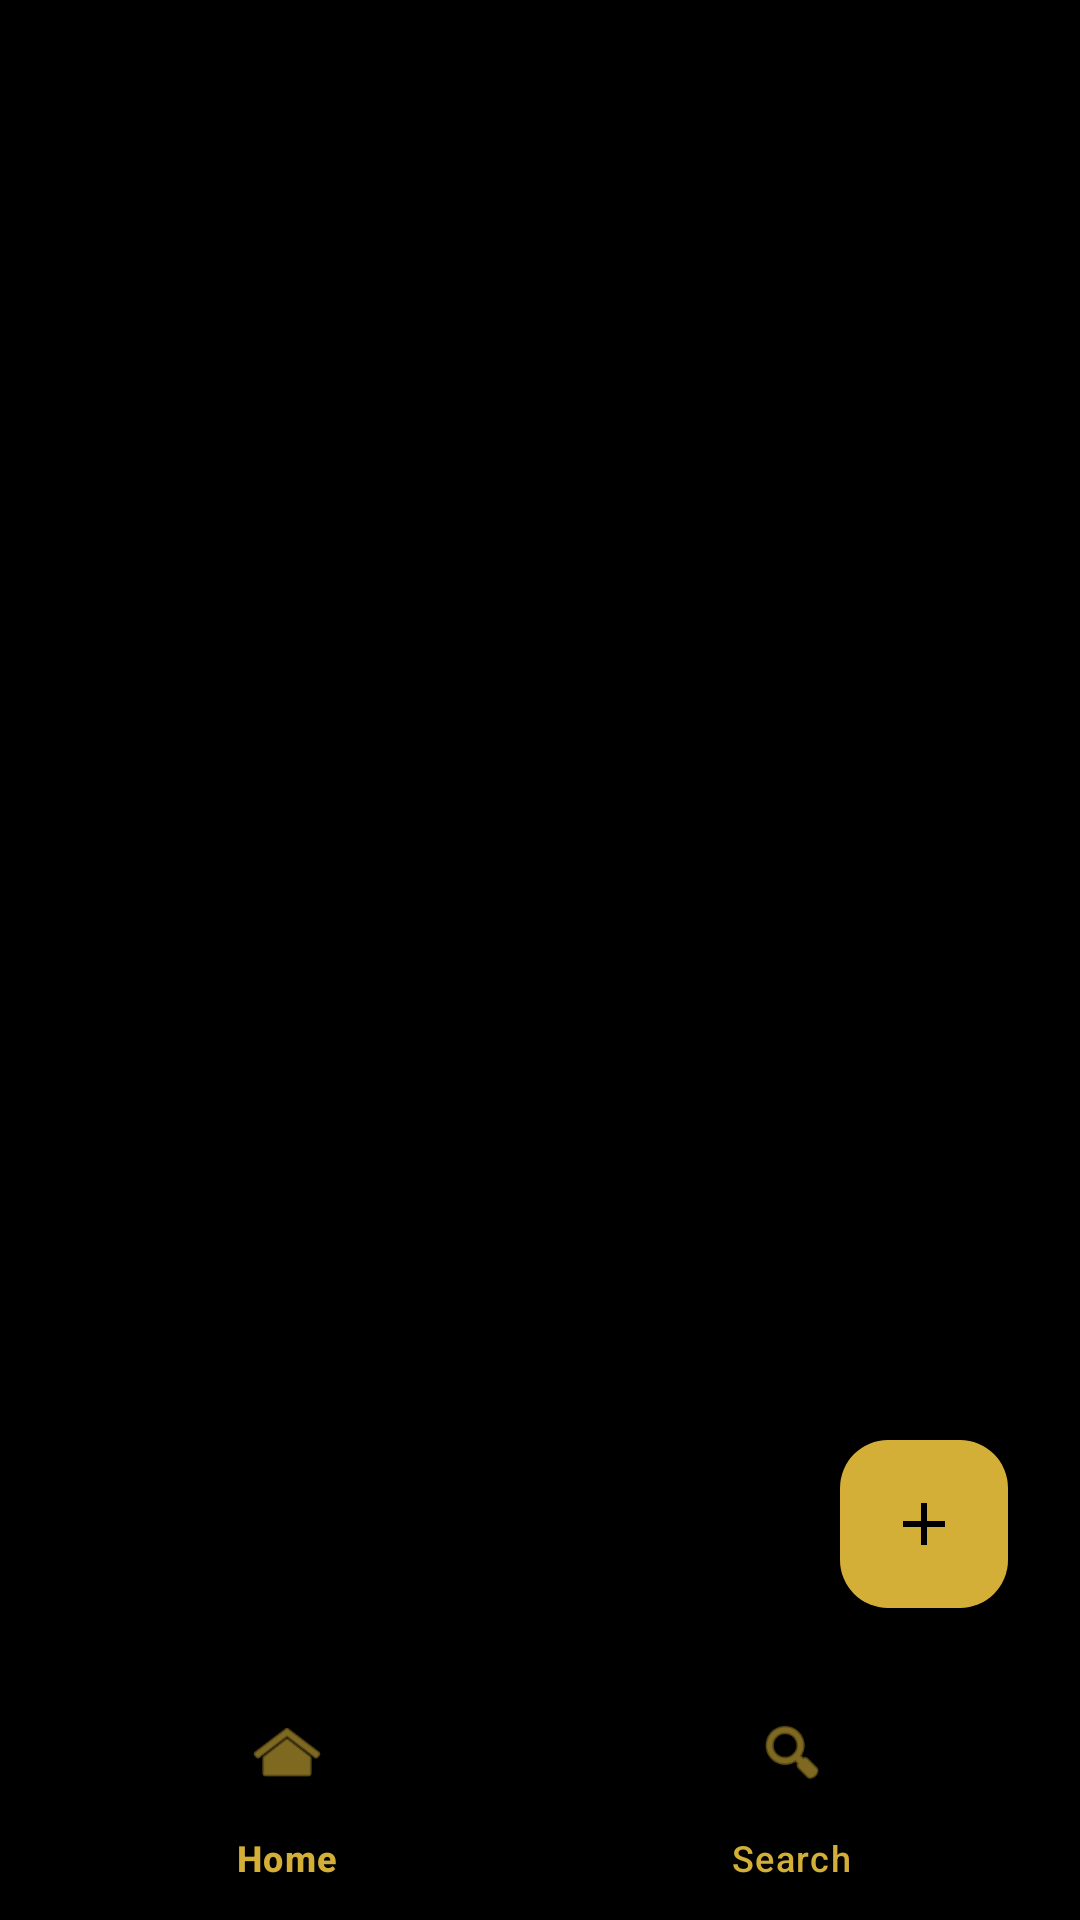

Where icons sit on this 1080w x 1920h app screen, as (x1, y1, x2, y2):
add: (840, 1440, 1008, 1608)
